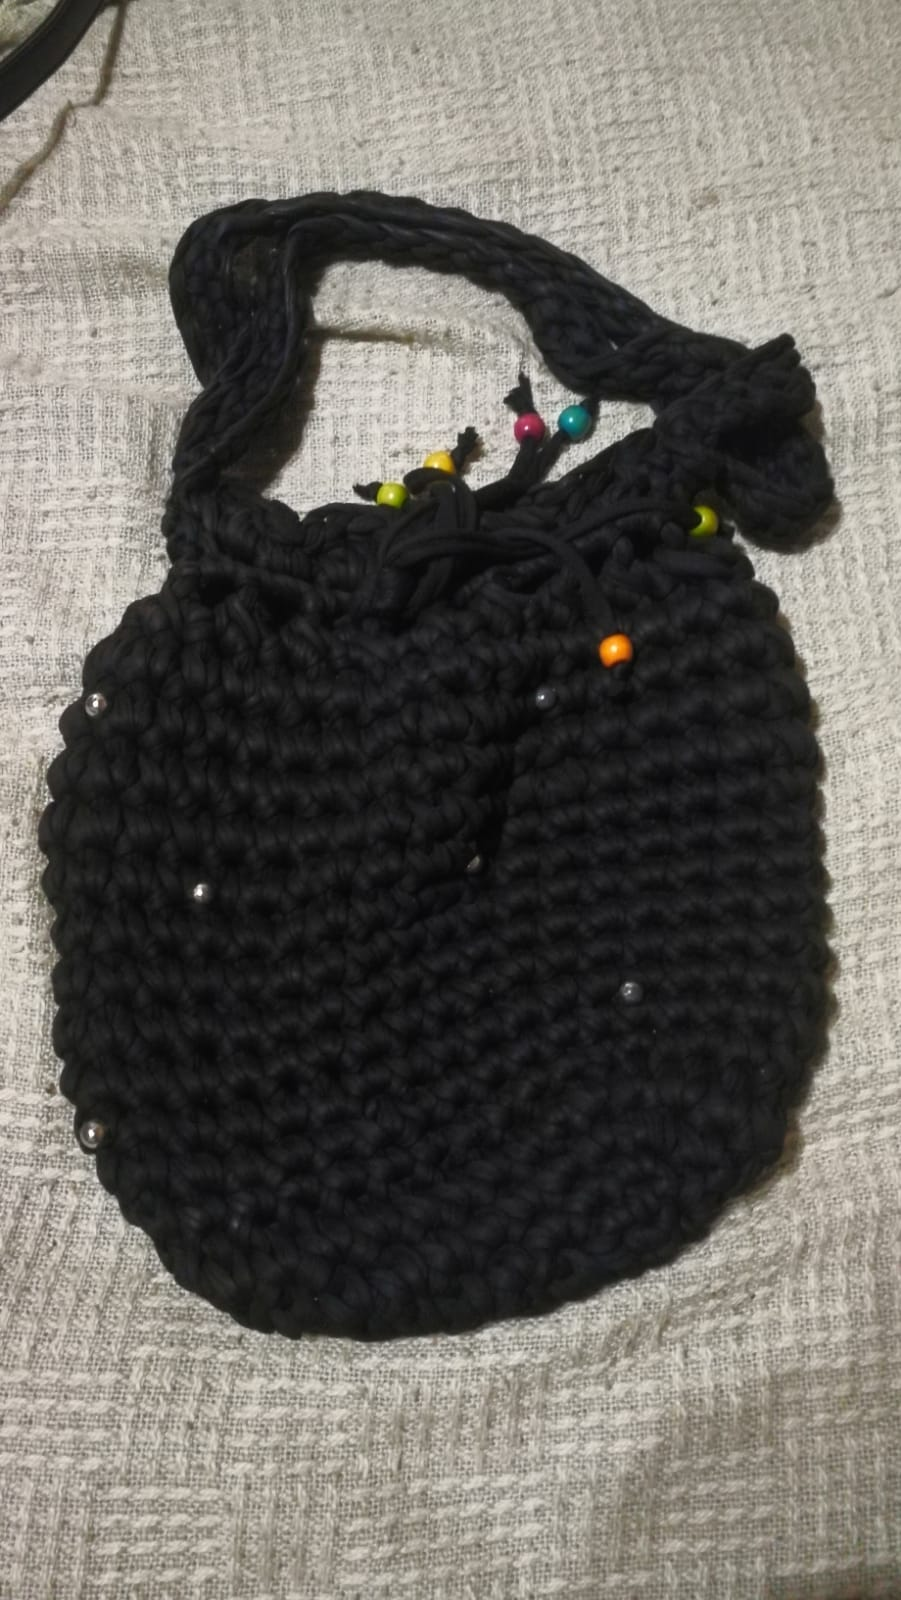cartera: (26, 201, 876, 1349)
tela: (507, 741, 736, 943)
